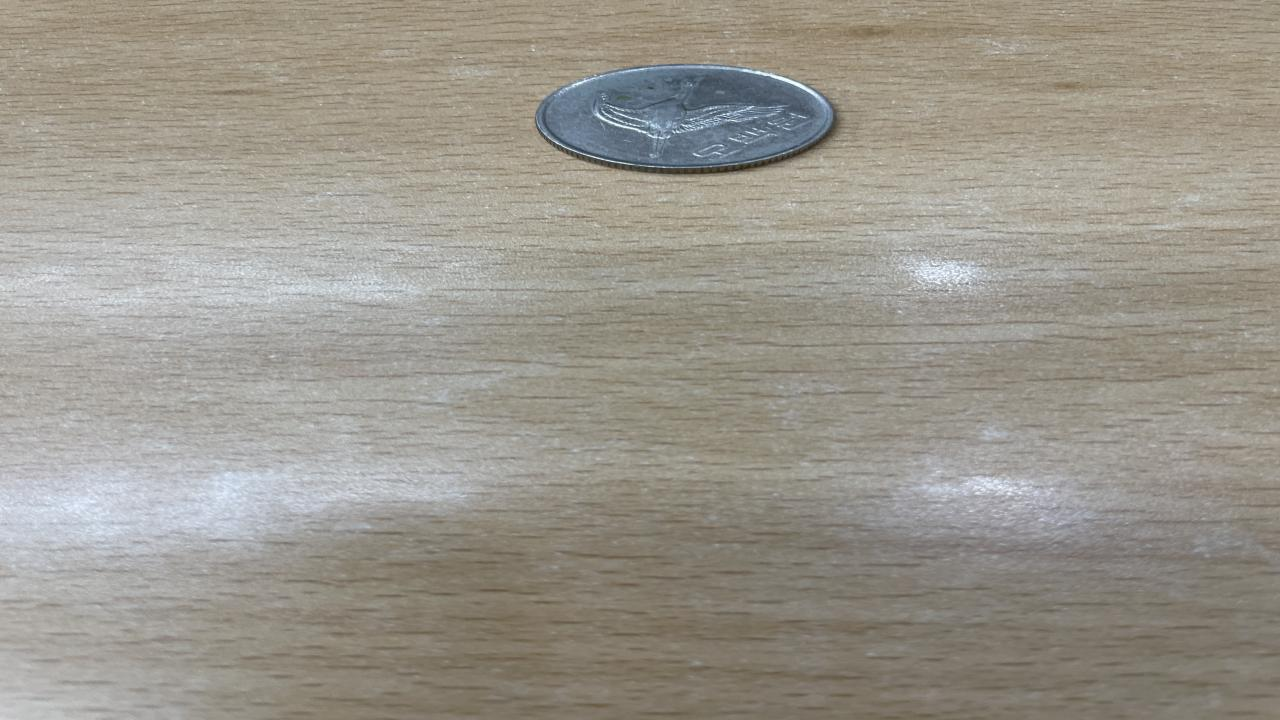coin: (531, 63, 839, 173)
